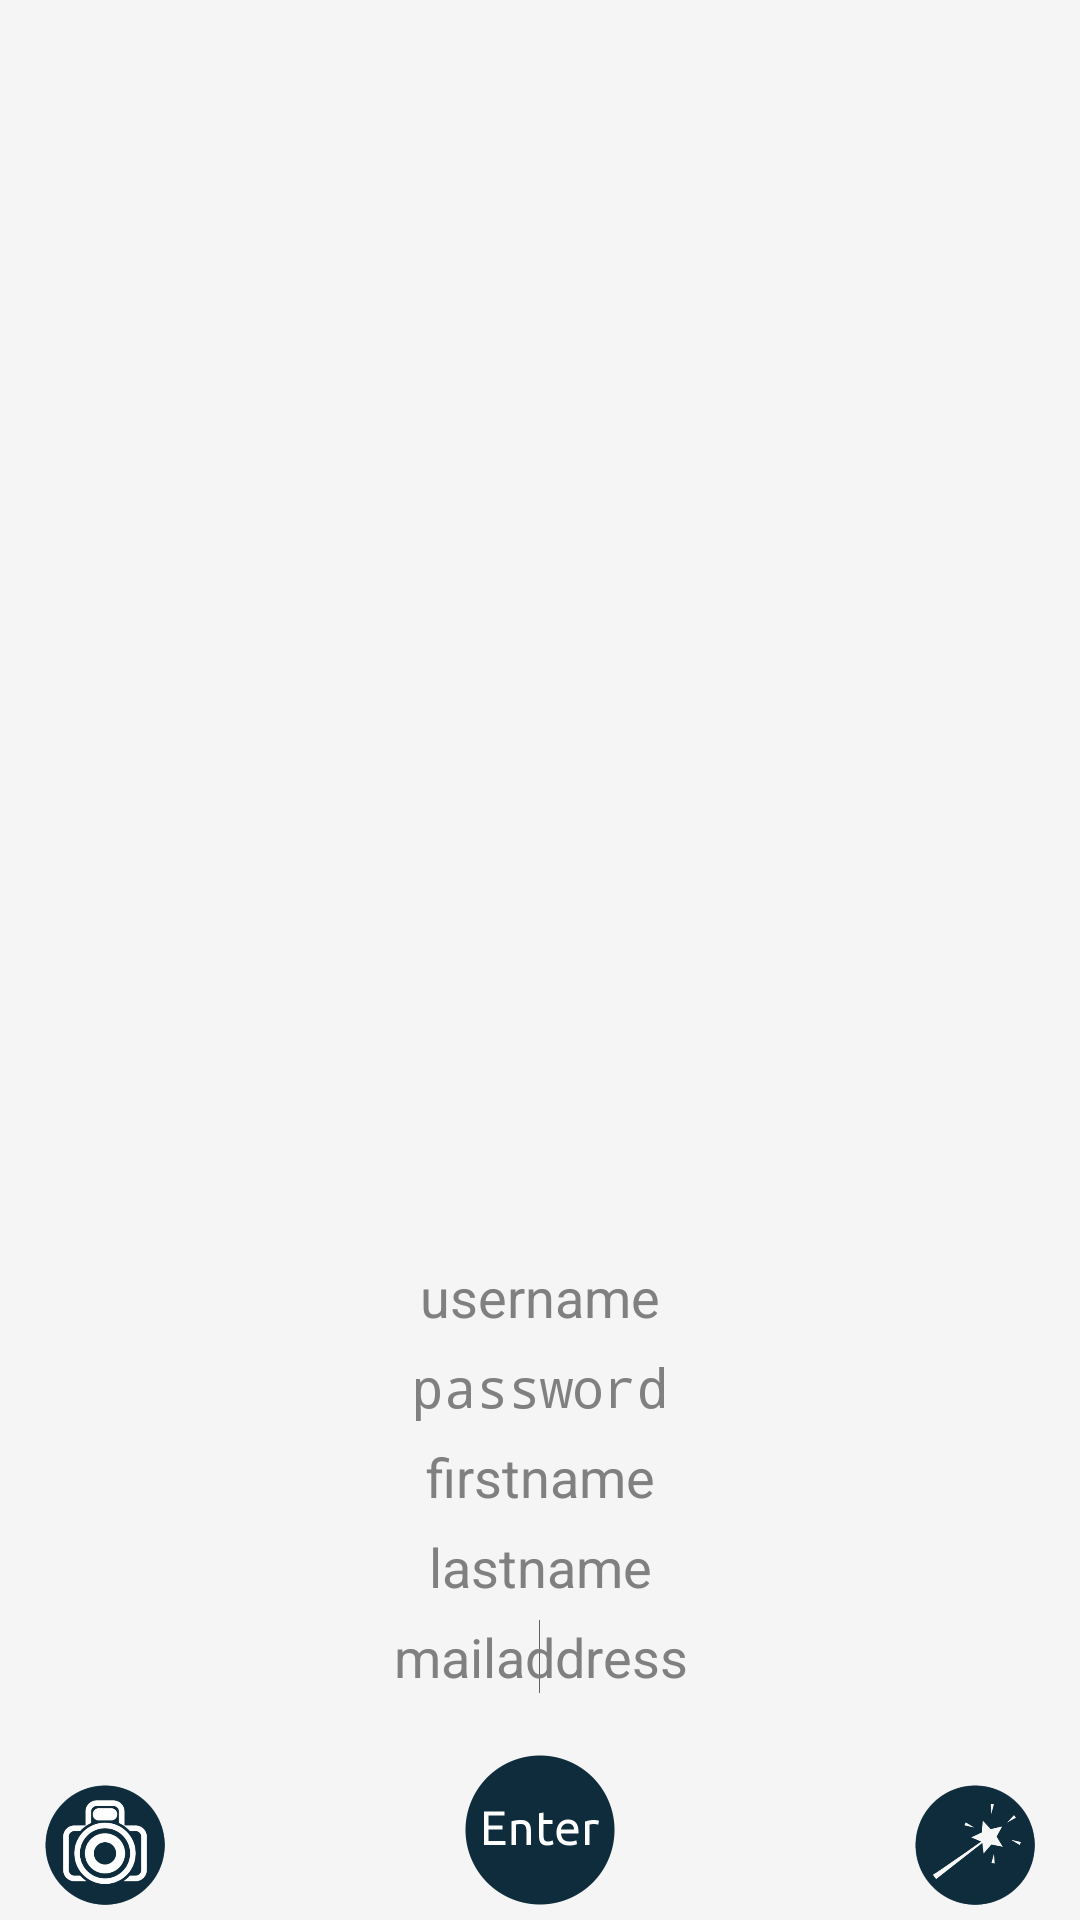

Screen size 1080px x 1920px. Icon name, then its box in pixels as (x1, y1, x2, y2):
photo sel: (45, 1785, 165, 1905)
wand sel: (915, 1785, 1035, 1905)
